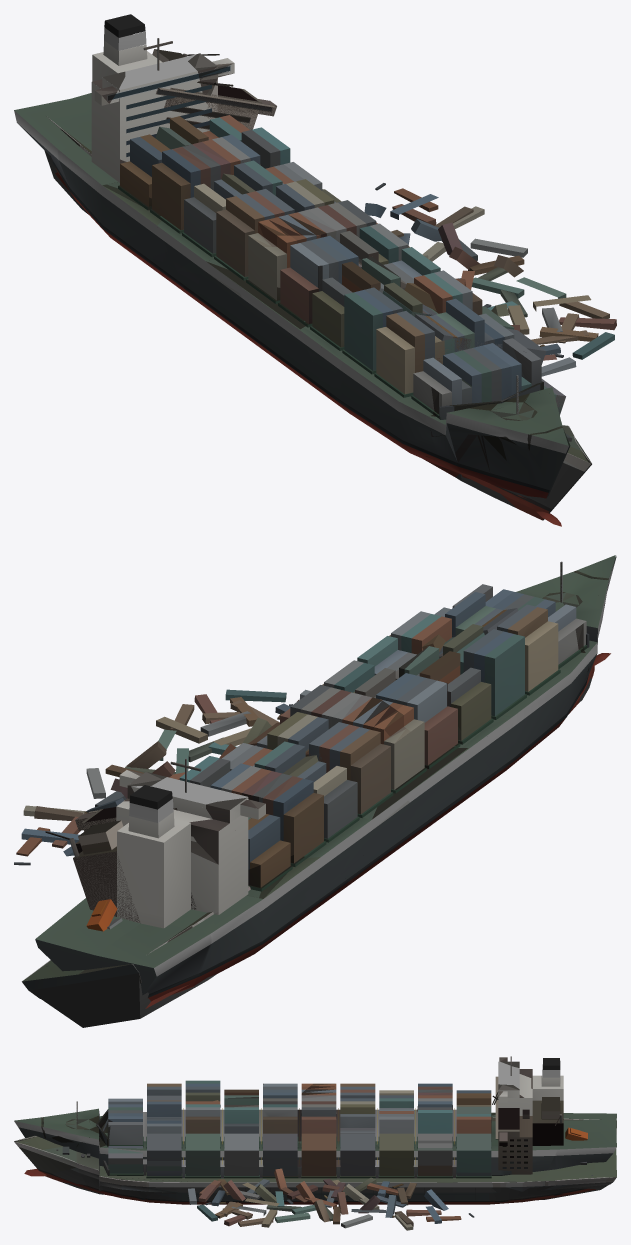
Rendered from ship_modern_container_fractured.glb.
The picture shows the model from 3 angles, top to bottom: view 1: azimuth 30°, elevation 25°; view 2: azimuth 150°, elevation 25°; view 3: azimuth 270°, elevation 25°; orthographic projection. The views are drawn at different scales.
Visible parts, largest first — view 1: ship_modern_container_DMG_mesh, ship_modern_container_RUIN_LOD0_float_0_mesh, ship_modern_container_FRAC_36_mesh, ship_modern_container_RUIN_LOD2_mesh, ship_modern_container_FRAC_31_mesh, ship_modern_container_FRAC_22_mesh, ship_modern_container_FRAC_35_mesh, ship_modern_container_FRAC_09_mesh, ship_modern_container_FRAC_27_mesh, ship_modern_container_RUIN_LOD0_mesh, ship_modern_container_RUIN_LOD1_mesh, ship_modern_container_FRAC_30_mesh (+13 smaller); view 2: ship_modern_container_DMG_mesh, ship_modern_container_RUIN_LOD2_mesh, ship_modern_container_RUIN_LOD0_float_0_mesh, ship_modern_container_FRAC_36_mesh, ship_modern_container_FRAC_35_mesh, ship_modern_container_FRAC_32_mesh, ship_modern_container_FRAC_22_mesh, ship_modern_container_RUIN_LOD1_mesh, ship_modern_container_RUIN_LOD0_mesh, ship_modern_container_FRAC_31_mesh, ship_modern_container_FRAC_09_mesh, ship_modern_container_FRAC_20_mesh (+14 smaller); view 3: ship_modern_container_RUIN_LOD2_mesh, ship_modern_container_DMG_mesh, ship_modern_container_RUIN_LOD0_mesh, ship_modern_container_RUIN_LOD0_float_0_mesh, ship_modern_container_RUIN_LOD1_mesh, ship_modern_container_FRAC_32_mesh, ship_modern_container_RUIN_LOD1_float_0_mesh, ship_modern_container_FRAC_33_mesh, ship_modern_container_FRAC_38_mesh, ship_modern_container_FRAC_19_mesh, ship_modern_container_FRAC_10_mesh, ship_modern_container_FRAC_31_mesh (+14 smaller).
Boxes of the visible parts, x1=… form: ship_modern_container_DMG_mesh: x1=14, y1=14, x2=569, y2=498; ship_modern_container_RUIN_LOD0_float_0_mesh: x1=364, y1=183, x2=616, y2=376; ship_modern_container_FRAC_36_mesh: x1=194, y1=260, x2=335, y2=403; ship_modern_container_RUIN_LOD2_mesh: x1=44, y1=49, x2=609, y2=519; ship_modern_container_FRAC_31_mesh: x1=331, y1=316, x2=507, y2=464; ship_modern_container_FRAC_22_mesh: x1=157, y1=153, x2=270, y2=303; ship_modern_container_FRAC_35_mesh: x1=58, y1=151, x2=194, y2=299; ship_modern_container_FRAC_09_mesh: x1=264, y1=235, x2=354, y2=321; ship_modern_container_FRAC_27_mesh: x1=431, y1=344, x2=537, y2=405; ship_modern_container_RUIN_LOD0_mesh: x1=47, y1=53, x2=591, y2=526; ship_modern_container_RUIN_LOD1_mesh: x1=60, y1=85, x2=590, y2=520; ship_modern_container_FRAC_30_mesh: x1=105, y1=61, x2=202, y2=117; ship_modern_container_DMG_mesh: x1=35, y1=557, x2=616, y2=994; ship_modern_container_RUIN_LOD2_mesh: x1=22, y1=608, x2=591, y2=1027; ship_modern_container_RUIN_LOD0_float_0_mesh: x1=14, y1=689, x2=310, y2=865; ship_modern_container_FRAC_36_mesh: x1=352, y1=746, x2=495, y2=882; ship_modern_container_FRAC_35_mesh: x1=211, y1=853, x2=348, y2=952; ship_modern_container_FRAC_32_mesh: x1=35, y1=916, x2=211, y2=1001; ship_modern_container_FRAC_22_mesh: x1=275, y1=757, x2=368, y2=888; ship_modern_container_RUIN_LOD1_mesh: x1=22, y1=633, x2=594, y2=994; ship_modern_container_RUIN_LOD0_mesh: x1=26, y1=609, x2=610, y2=1027; ship_modern_container_FRAC_31_mesh: x1=434, y1=594, x2=588, y2=779; ship_modern_container_FRAC_09_mesh: x1=383, y1=674, x2=455, y2=756; ship_modern_container_FRAC_20_mesh: x1=246, y1=797, x2=299, y2=869; ship_modern_container_RUIN_LOD2_mesh: x1=14, y1=1095, x2=616, y2=1230; ship_modern_container_DMG_mesh: x1=14, y1=1057, x2=616, y2=1174; ship_modern_container_RUIN_LOD0_mesh: x1=14, y1=1076, x2=616, y2=1204; ship_modern_container_RUIN_LOD0_float_0_mesh: x1=188, y1=1168, x2=474, y2=1228; ship_modern_container_RUIN_LOD1_mesh: x1=16, y1=1103, x2=607, y2=1202; ship_modern_container_FRAC_32_mesh: x1=551, y1=1113, x2=616, y2=1163; ship_modern_container_RUIN_LOD1_float_0_mesh: x1=222, y1=1180, x2=441, y2=1223; ship_modern_container_FRAC_33_mesh: x1=346, y1=1107, x2=430, y2=1174; ship_modern_container_FRAC_38_mesh: x1=198, y1=1119, x2=274, y2=1158; ship_modern_container_FRAC_19_mesh: x1=446, y1=1104, x2=498, y2=1166; ship_modern_container_FRAC_10_mesh: x1=154, y1=1104, x2=199, y2=1155; ship_modern_container_FRAC_31_mesh: x1=126, y1=1098, x2=185, y2=1173.
Size of the model in its own units: 75.09 by 51.52 by 212.
